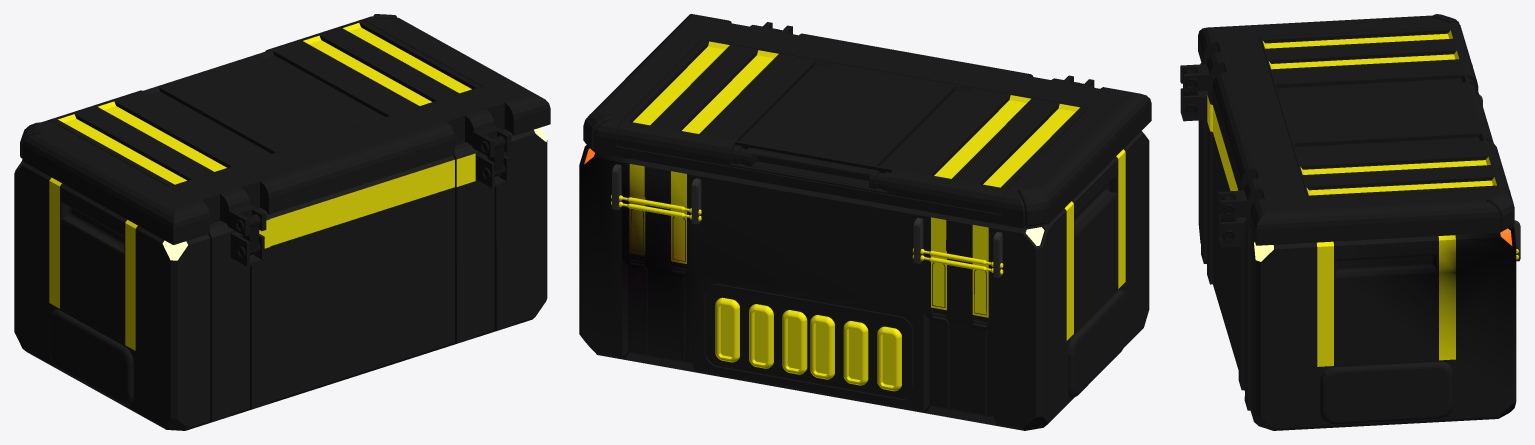
File: storage_box.glb
3 views of the same model, side by side, from view 1: azimuth 30°, elevation 25°; view 2: azimuth 150°, elevation 25°; view 3: azimuth 270°, elevation 25° (orthographic). The views are drawn at different scales.
Visible parts, largest first — view 1: Cube.004, Plane.001, Cylinder.002; view 2: Cube.004, Plane.001, Cube.005, Cube.006, Cylinder.003; view 3: Plane.001, Cube.004, Cylinder.002.
Part boxes in pixels (bbox=[...]): Cube.004: bbox=[14, 127, 547, 430]; Plane.001: bbox=[20, 14, 550, 244]; Cylinder.002: bbox=[236, 135, 505, 258]; Cube.004: bbox=[579, 131, 1149, 430]; Plane.001: bbox=[583, 14, 1151, 228]; Cube.005: bbox=[715, 297, 901, 391]; Cube.006: bbox=[612, 164, 1002, 277]; Cylinder.003: bbox=[611, 195, 1003, 274]; Plane.001: bbox=[1180, 14, 1514, 245]; Cube.004: bbox=[1180, 63, 1516, 430]; Cylinder.002: bbox=[1183, 69, 1235, 241].
Size of the model in its own units: 3.75 by 1.83 by 2.59.
